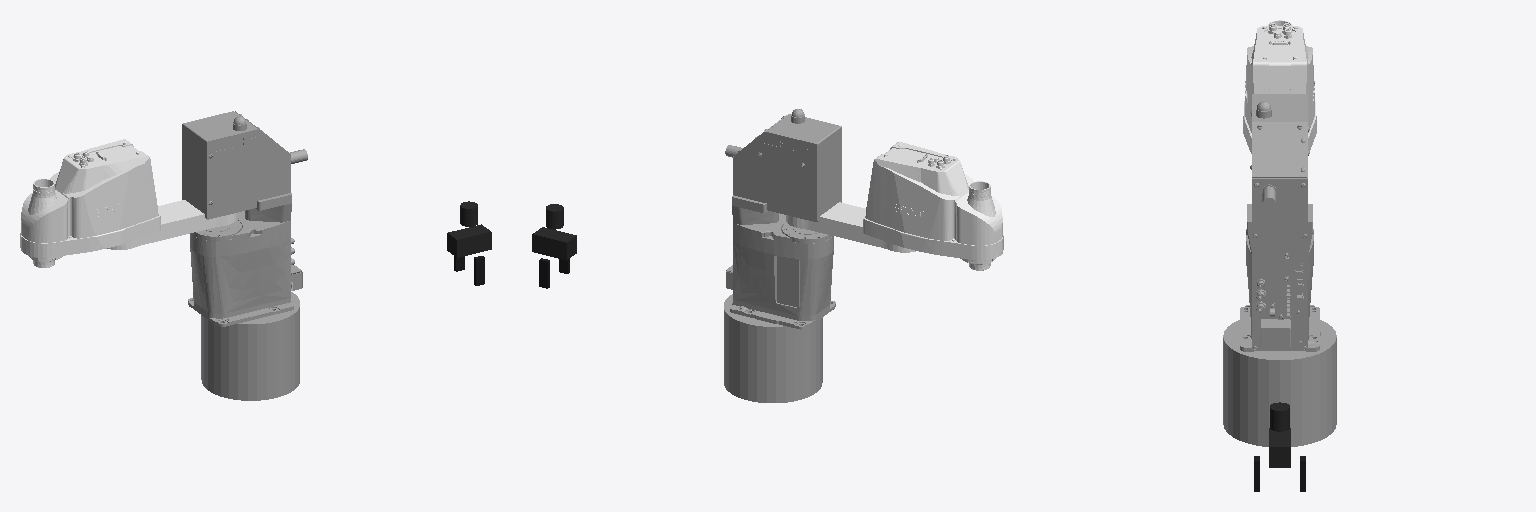
URDF robot description (t3_401_simple_gripper):
<?xml version="1.0"?>
<robot name="t3_401_simple_gripper">

  <!-- Epson T3-401 SCARA + parallel-jaw gripper.
       Geometry approximates the real arm with primitive shapes; the
       headline dimensions match Epson's spec sheet:
         arm 1 = 225mm, arm 2 = 175mm  (total reach 400mm)
         J1 = +/-132 deg (+/-2.303 rad)
         J2 = +/-141 deg (+/-2.461 rad)
         J3 = 150mm prismatic stroke (positive = descend)
         J4 = +/-360 deg (+/-6.283 rad)
       The base column is taller than the real T3-401 (~500mm vs 370mm)
       so that with J3=0 the tool reaches up to ~280mm above the table —
       enough headroom to clear the jar during the lift+move phase.
       The end-effector convention follows the UR5 description: a
       `tool0_aligned` link whose +Z axis points along the tool approach
       direction (downward in world space at home pose). -->

  <link name="world"/>

  <link name="base_link">
    <visual>
      <!-- T3-401S column+electronics-housing mesh. Joint_1 axis at
           CAD (189, 200, 0). With kinematic joint_1 now at z=0.37
           (real T3-401S column height), translate by
           xyz=(-0.189, 0, 0.17). See t3_401_tweezer.urdf. -->
      <origin xyz="-0.189 0 0.17" rpy="1.5707963 0 0"/>
      <geometry>
        <mesh filename="meshes/base_link.stl" scale="0.001 0.001 0.001"/>
      </geometry>
      <material name="silver">
        <color rgba="0.7 0.7 0.7 1.0"/>
      </material>
    </visual>
    <visual>
      <!-- 17 cm mounting block bridges floor to the CAD column base
           at z=0.17. See t3_401_tweezer.urdf for reasoning. -->
      <origin xyz="-0.108 0 0.085" rpy="0 0 0"/>
      <geometry>
        <cylinder length="0.17" radius="0.10"/>
      </geometry>
      <material name="silver"/>
    </visual>
    <collision>
      <origin xyz="0 0 0.25" rpy="0 0 0"/>
      <geometry>
        <cylinder length="0.50" radius="0.05"/>
      </geometry>
    </collision>
    <inertial>
      <origin xyz="0 0 0.25" rpy="0 0 0"/>
      <mass value="6.0"/>
      <inertia ixx="0.13" ixy="0" ixz="0" iyy="0.13" iyz="0" izz="0.0075"/>
    </inertial>
  </link>
  <joint name="world_to_base" type="fixed">
    <parent link="world"/>
    <child link="base_link"/>
    <origin xyz="0 0 0" rpy="0 0 0"/>
  </joint>

  <!-- Joint 1: shoulder rotation about vertical at top of base column -->
  <link name="link_1">
    <visual>
      <!-- T3-401S arm1 mesh: spans CAD X=101..414, Y=182..235. Joint_1
           at CAD (189, 182, 0). rpy=(pi/2,0,0) keeps URDF-X = CAD-X;
           translate by (-0.189, 0, -0.182) so joint_1 lands at link
           origin and arm extends in URDF +X toward joint_2 at +0.225. -->
      <origin xyz="-0.189 0 -0.182" rpy="1.5707963 0 0"/>
      <geometry>
        <mesh filename="meshes/link_1.stl" scale="0.001 0.001 0.001"/>
      </geometry>
      <material name="white">
        <color rgba="0.95 0.95 0.95 1.0"/>
      </material>
    </visual>
    <collision>
      <origin xyz="0.1125 0 0.020" rpy="0 0 0"/>
      <geometry>
        <box size="0.225 0.06 0.040"/>
      </geometry>
    </collision>
    <inertial>
      <origin xyz="0.1125 0 0.020" rpy="0 0 0"/>
      <mass value="2.0"/>
      <inertia ixx="6.83e-4" ixy="0" ixz="0" iyy="8.7e-3" iyz="0" izz="8.85e-3"/>
    </inertial>
  </link>
  <joint name="joint_1" type="revolute">
    <parent link="base_link"/>
    <child link="link_1"/>
    <origin xyz="0 0 0.37" rpy="0 0 0"/>
    <axis xyz="0 0 1"/>
    <limit lower="-2.303" upper="2.303" effort="80.0" velocity="6.5"/>
    <dynamics damping="2.0" friction="0.2"/>
  </joint>

  <!-- Joint 2: elbow rotation at end of arm 1 -->
  <link name="link_2">
    <visual>
      <!-- T3-401S arm2 mesh: spans CAD X=292..591, Y=204..425. Joint_2
           at CAD (414, 204, 0). rpy=(pi/2,0,0); translate by
           (-0.414, 0, -0.204). The Z-motor tower extends ~22 cm above
           joint_2 in CAD. -->
      <origin xyz="-0.414 0 -0.204" rpy="1.5707963 0 0"/>
      <geometry>
        <mesh filename="meshes/link_2.stl" scale="0.001 0.001 0.001"/>
      </geometry>
      <material name="white"/>
    </visual>
    <collision>
      <origin xyz="0.0875 0 0.020" rpy="0 0 0"/>
      <geometry>
        <box size="0.175 0.05 0.040"/>
      </geometry>
    </collision>
    <inertial>
      <origin xyz="0.0875 0 0.020" rpy="0 0 0"/>
      <mass value="1.5"/>
      <inertia ixx="4.0e-4" ixy="0" ixz="0" iyy="4.03e-3" iyz="0" izz="4.03e-3"/>
    </inertial>
  </link>
  <joint name="joint_2" type="revolute">
    <parent link="link_1"/>
    <child link="link_2"/>
    <origin xyz="0.225 0 0" rpy="0 0 0"/>
    <axis xyz="0 0 1"/>
    <limit lower="-2.461" upper="2.461" effort="60.0" velocity="6.5"/>
    <dynamics damping="2.0" friction="0.2"/>
  </joint>

  <!-- Joint 3: prismatic Z (positive = descend). Stroke is 200mm, slightly
       longer than the real T3-401's 150mm spec; sim convenience so the
       wrist can reach far enough below the arm body to insert into a jar
       sitting on the table. The shaft visual hangs DOWN from the joint
       origin, so as J3 increases the wrist (joint_4) descends. -->
  <link name="link_3">
    <visual>
      <!-- T3-401S shaft mesh trimmed to bottom 100 mm. Shaft centered at
           CAD (X=543, Z=23) — note the Z=23 off-center offset. Joint_3
           axis = shaft cylinder axis. Translate by (-0.543, 0.023,
           -0.261) so shaft axis aligns with link_3 origin (the
           kinematic joint_3). See t3_401_tweezer.urdf for details. -->
      <origin xyz="-0.543 0.023 -0.261" rpy="1.5707963 0 0"/>
      <geometry>
        <mesh filename="meshes/link_3.stl" scale="0.001 0.001 0.001"/>
      </geometry>
      <material name="dark_grey">
        <color rgba="0.2 0.2 0.2 1.0"/>
      </material>
    </visual>
    <collision>
      <origin xyz="0 0 -0.05" rpy="0 0 0"/>
      <geometry>
        <cylinder length="0.10" radius="0.012"/>
      </geometry>
    </collision>
    <inertial>
      <origin xyz="0 0 -0.05" rpy="0 0 0"/>
      <mass value="0.3"/>
      <inertia ixx="2.6e-4" ixy="0" ixz="0" iyy="2.6e-4" iyz="0" izz="2.16e-5"/>
    </inertial>
  </link>
  <joint name="joint_3" type="prismatic">
    <parent link="link_2"/>
    <child link="link_3"/>
    <!-- joint_3 origin from real T3-401S spec (arm2 = 175 mm, planar).
         Spec preferred over CAD because IK is much more reliable with a
         planar SCARA; see t3_401_tweezer.urdf for details. -->
    <origin xyz="0.175 0 0" rpy="0 0 0"/>
    <axis xyz="0 0 -1"/>
    <limit lower="0.0" upper="0.200" effort="120.0" velocity="1.0"/>
    <dynamics damping="3.0" friction="0.5"/>
  </joint>

  <!-- Joint 4: wrist rotation about vertical (yaw of the gripper).
       Joint origin is at the bottom of the shaft visual. -->
  <link name="link_4">
    <visual>
      <origin xyz="0 0 -0.02" rpy="0 0 0"/>
      <geometry>
        <cylinder length="0.04" radius="0.018"/>
      </geometry>
      <material name="dark_grey"/>
    </visual>
    <collision>
      <origin xyz="0 0 -0.02" rpy="0 0 0"/>
      <geometry>
        <cylinder length="0.04" radius="0.018"/>
      </geometry>
    </collision>
    <inertial>
      <origin xyz="0 0 -0.02" rpy="0 0 0"/>
      <mass value="0.1"/>
      <inertia ixx="2.16e-5" ixy="0" ixz="0" iyy="2.16e-5" iyz="0" izz="1.62e-5"/>
    </inertial>
  </link>
  <joint name="joint_4" type="revolute">
    <parent link="link_3"/>
    <child link="link_4"/>
    <origin xyz="0 0 -0.10" rpy="0 0 0"/>
    <axis xyz="0 0 1"/>
    <limit lower="-6.283" upper="6.283" effort="20.0" velocity="20.0"/>
    <dynamics damping="0.5" friction="0.1"/>
  </joint>

  <!-- Tool flange located at the bottom of the wrist body. The fixed
       transform rotates by 180 deg about X so tool0's +Z axis points
       along the tool approach direction (downward in world at home
       pose). This matches the UR5 description's `tool0_aligned`
       convention so downstream code (env_cfg, oracle, ee_frame
       transformer) does not need a SCARA-specific path. -->
  <link name="tool0"/>
  <joint name="link_4_to_tool0" type="fixed">
    <parent link="link_4"/>
    <child link="tool0"/>
    <origin xyz="0 0 -0.04" rpy="3.14159265 0 0"/>
  </joint>

  <link name="tool0_aligned"/>
  <joint name="tool0_to_aligned" type="fixed">
    <parent link="tool0"/>
    <child link="tool0_aligned"/>
    <origin xyz="0 0 0" rpy="0 0 0"/>
  </joint>

  <!-- Gripper base: short rigid block attached below tool0_aligned
       (offset 4cm in approach direction so it sits clear of the wrist
       cylinder). Houses the two prismatic fingers. -->
  <link name="gripper_base">
    <visual>
      <origin xyz="0 0 0" rpy="0 0 0"/>
      <geometry>
        <box size="0.08 0.04 0.04"/>
      </geometry>
      <material name="gripper_base_grey">
        <color rgba="0.2 0.2 0.2 1.0"/>
      </material>
    </visual>
    <collision>
      <origin xyz="0 0 0" rpy="0 0 0"/>
      <geometry>
        <box size="0.08 0.04 0.04"/>
      </geometry>
    </collision>
    <inertial>
      <origin xyz="0 0 0" rpy="0 0 0"/>
      <mass value="0.1"/>
      <inertia ixx="5e-5" ixy="0" ixz="0" iyy="8e-5" iyz="0" izz="8e-5"/>
    </inertial>
  </link>
  <joint name="tool0_to_gripper_base" type="fixed">
    <parent link="tool0_aligned"/>
    <child link="gripper_base"/>
    <origin xyz="0 0 0.04" rpy="0 0 0"/>
  </joint>

  <!-- Left finger: prismatic, slides along gripper base's -Y.
       Position 0.0 = fully open (finger at y=+0.04), 0.04 = closed. -->
  <link name="finger_left">
    <visual>
      <origin xyz="0 0 0.03" rpy="0 0 0"/>
      <geometry>
        <box size="0.02 0.01 0.06"/>
      </geometry>
      <material name="finger_grey">
        <color rgba="0.15 0.15 0.15 1.0"/>
      </material>
    </visual>
    <collision>
      <origin xyz="0 0 0.03" rpy="0 0 0"/>
      <geometry>
        <box size="0.02 0.01 0.06"/>
      </geometry>
    </collision>
    <inertial>
      <origin xyz="0 0 0.03" rpy="0 0 0"/>
      <mass value="0.02"/>
      <inertia ixx="1e-5" ixy="0" ixz="0" iyy="1e-5" iyz="0" izz="2e-6"/>
    </inertial>
  </link>
  <joint name="finger_left_joint" type="prismatic">
    <parent link="gripper_base"/>
    <child link="finger_left"/>
    <origin xyz="0 0.04 0.02" rpy="0 0 0"/>
    <axis xyz="0 -1 0"/>
    <limit lower="0.0" upper="0.04" effort="50.0" velocity="0.2"/>
    <dynamics damping="1.0" friction="0.1"/>
  </joint>

  <!-- Right finger: mirror of left. -->
  <link name="finger_right">
    <visual>
      <origin xyz="0 0 0.03" rpy="0 0 0"/>
      <geometry>
        <box size="0.02 0.01 0.06"/>
      </geometry>
      <material name="finger_grey">
        <color rgba="0.15 0.15 0.15 1.0"/>
      </material>
    </visual>
    <collision>
      <origin xyz="0 0 0.03" rpy="0 0 0"/>
      <geometry>
        <box size="0.02 0.01 0.06"/>
      </geometry>
    </collision>
    <inertial>
      <origin xyz="0 0 0.03" rpy="0 0 0"/>
      <mass value="0.02"/>
      <inertia ixx="1e-5" ixy="0" ixz="0" iyy="1e-5" iyz="0" izz="2e-6"/>
    </inertial>
  </link>
  <joint name="finger_right_joint" type="prismatic">
    <parent link="gripper_base"/>
    <child link="finger_right"/>
    <origin xyz="0 -0.04 0.02" rpy="0 0 0"/>
    <axis xyz="0 1 0"/>
    <limit lower="0.0" upper="0.04" effort="50.0" velocity="0.2"/>
    <dynamics damping="1.0" friction="0.1"/>
  </joint>

</robot>

--- Render facts (derived) ---
Views: 3 orthographic renders of the robot side by side, from view 1: azimuth 30°, elevation 25°; view 2: azimuth 150°, elevation 25°; view 3: azimuth 270°, elevation 25°.
Model t3_401_simple_gripper with 11 links and 10 joints (3 revolute, 3 prismatic, 4 fixed), rooted at world, posed every joint at zero.
Links seen in each view (by area): view 1: base_link, link_2, link_1, gripper_base; view 2: base_link, link_2, link_1, gripper_base; view 3: base_link, link_2, gripper_base, link_4.
Boxes of the visible links, box(x1,y1,x2,y2) form: base_link: box(182, 111, 307, 400); link_2: box(20, 139, 160, 267); link_1: box(107, 200, 237, 249); gripper_base: box(447, 224, 491, 257); base_link: box(724, 109, 841, 402); link_2: box(863, 142, 1003, 270); link_1: box(786, 202, 915, 252); gripper_base: box(532, 227, 576, 260); base_link: box(1223, 94, 1336, 446); link_2: box(1243, 20, 1316, 153); gripper_base: box(1269, 428, 1290, 467); link_4: box(1270, 402, 1289, 431).
Size in the robot's own frame: 1.08 by 0.2 by 0.6063 metres.
Meshes: 4 distinct files referenced, 3 mesh visuals loaded (3 binary STL); not drawn: 1 (reference not matched to a file when rendering).
